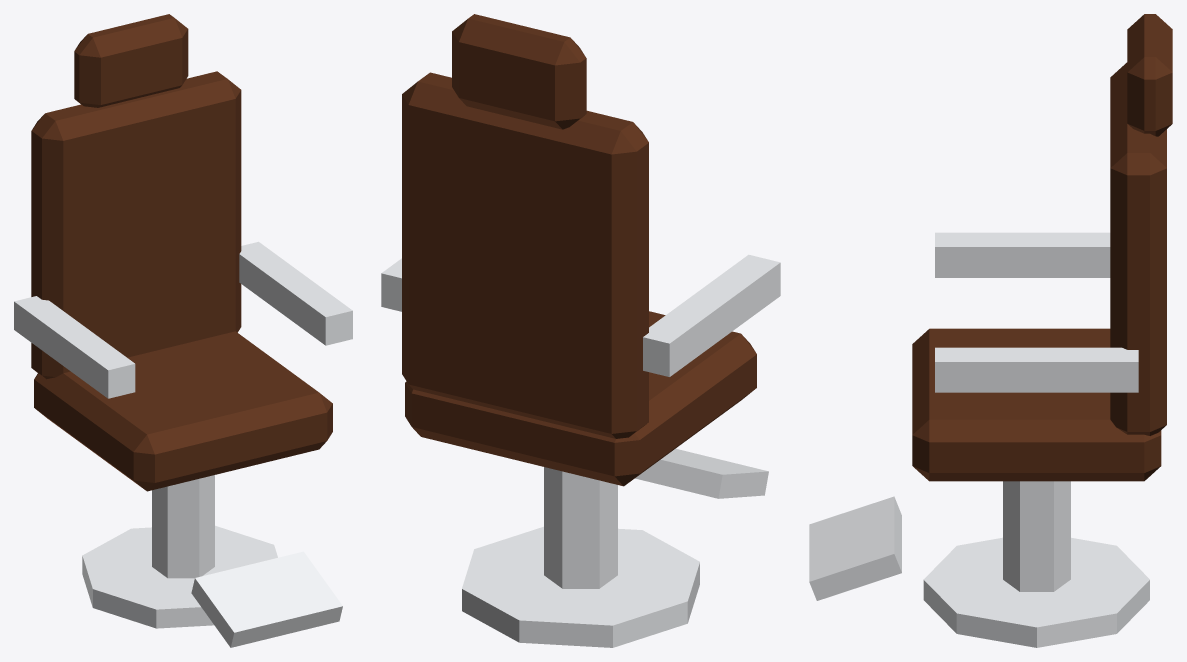
Rendered from SalonChair.fbx.
3 renders of one model, left to right at view 1: azimuth 30°, elevation 25°; view 2: azimuth 150°, elevation 25°; view 3: azimuth 270°, elevation 25°, orthographic. The views are drawn at different scales.
Visible parts, largest first — view 1: SalonChair; view 2: SalonChair; view 3: SalonChair.
Boxes of the visible parts, x1,y1,x2,y2 form: SalonChair: [14, 14, 352, 647]; SalonChair: [381, 14, 780, 647]; SalonChair: [809, 14, 1172, 647].
Bounding box in the file's own units: 2.7 × 5.5 × 3.21.
Materials: 1 (1 with a texture image).
